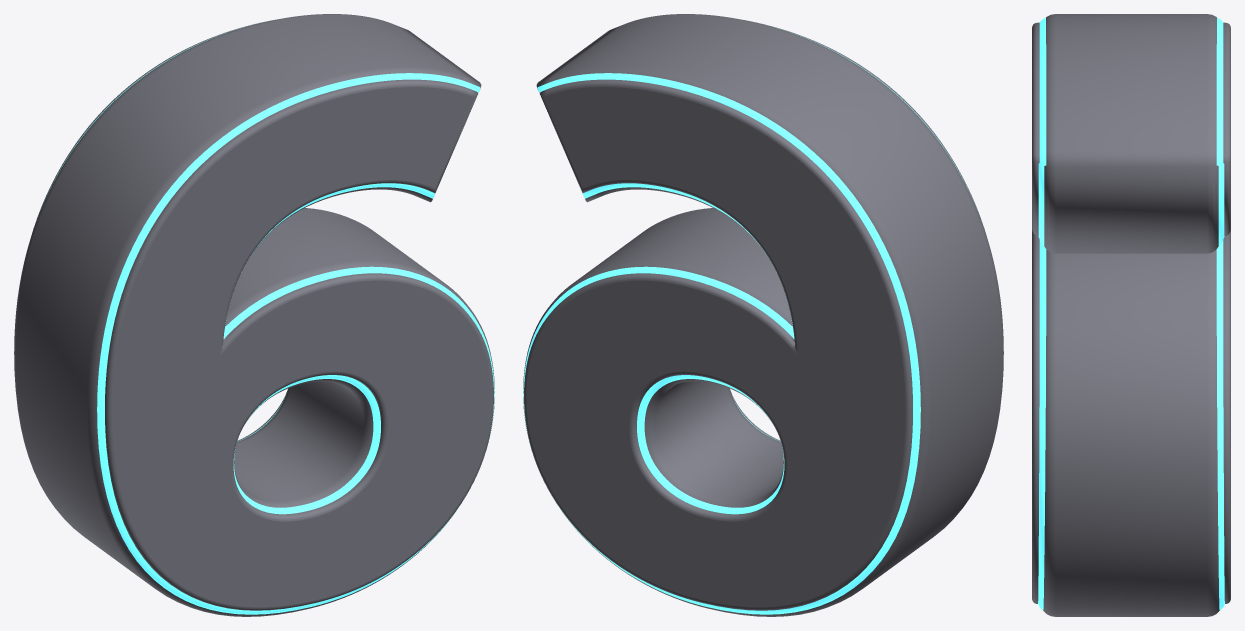
The picture shows the model from 3 angles, left to right: view 1: azimuth 30°, elevation 25°; view 2: azimuth 150°, elevation 25°; view 3: azimuth 270°, elevation 25°; orthographic projection. The views are drawn at different scales.
Visible parts, largest first — view 1: N_6_smaller, N_6_side, N_6_border; view 2: N_6_smaller, N_6_side, N_6_border; view 3: N_6_side, N_6_smaller, N_6_border.
Boxes of the visible parts, x1,y1,x2,y2 form: N_6_smaller: [33, 20, 493, 610]; N_6_side: [14, 14, 494, 616]; N_6_border: [41, 27, 494, 614]; N_6_smaller: [524, 20, 984, 610]; N_6_side: [523, 14, 1003, 616]; N_6_border: [523, 27, 976, 614]; N_6_side: [1043, 14, 1219, 616]; N_6_smaller: [1032, 22, 1230, 603]; N_6_border: [1038, 17, 1224, 610].
Size of the model in its own units: 46.07 by 56.95 by 18.4.
